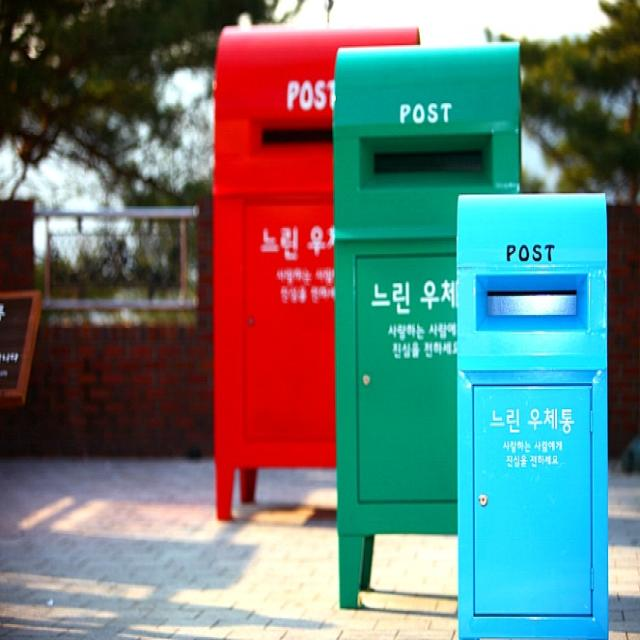Post Box: (211, 21, 421, 524), (334, 47, 522, 608), (456, 195, 609, 640)
